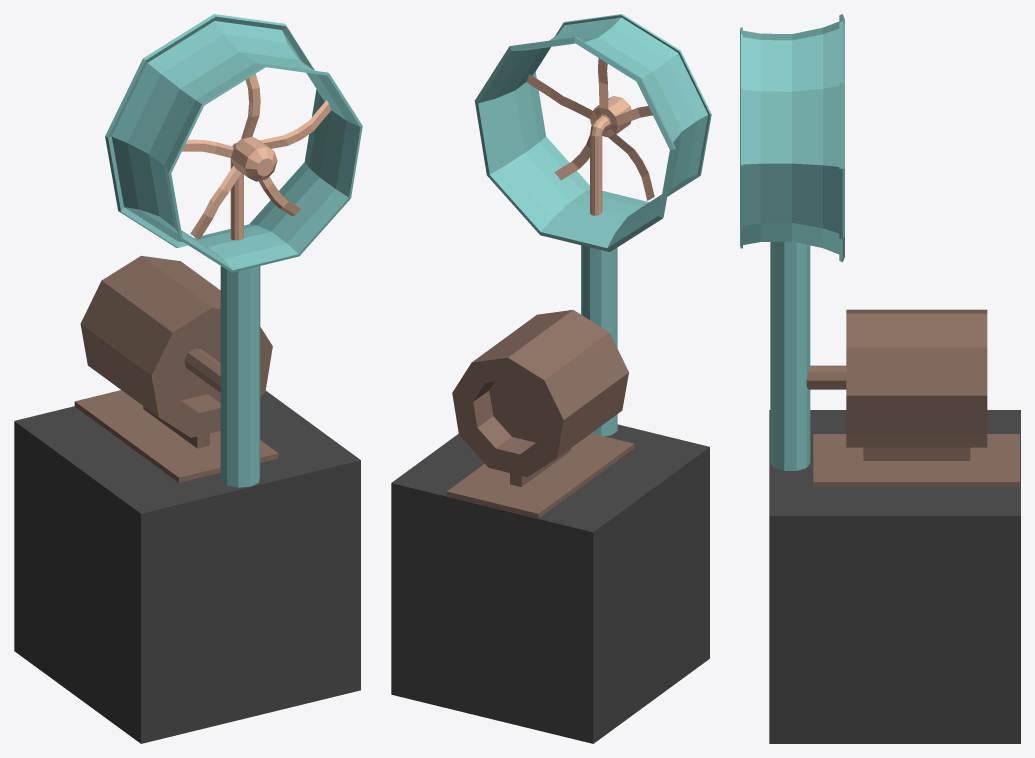
Rendered from generator tile.fbx.
The picture shows the model from 3 angles, left to right: view 1: azimuth 30°, elevation 25°; view 2: azimuth 150°, elevation 25°; view 3: azimuth 270°, elevation 25°; orthographic projection. The views are drawn at different scales.
Parts seen in each view (by area): view 1: platform, wind turbine level 1; view 2: platform, wind turbine level 1; view 3: platform, wind turbine level 1.
Part boxes in pixels (box(x1,y1,x2,y2)): platform: box(14, 391, 360, 743); wind turbine level 1: box(74, 14, 362, 487); platform: box(391, 424, 709, 743); wind turbine level 1: box(447, 14, 711, 518); platform: box(769, 410, 1020, 743); wind turbine level 1: box(740, 14, 1019, 486).
Size of the model in its own units: 100 by 294 by 112.
